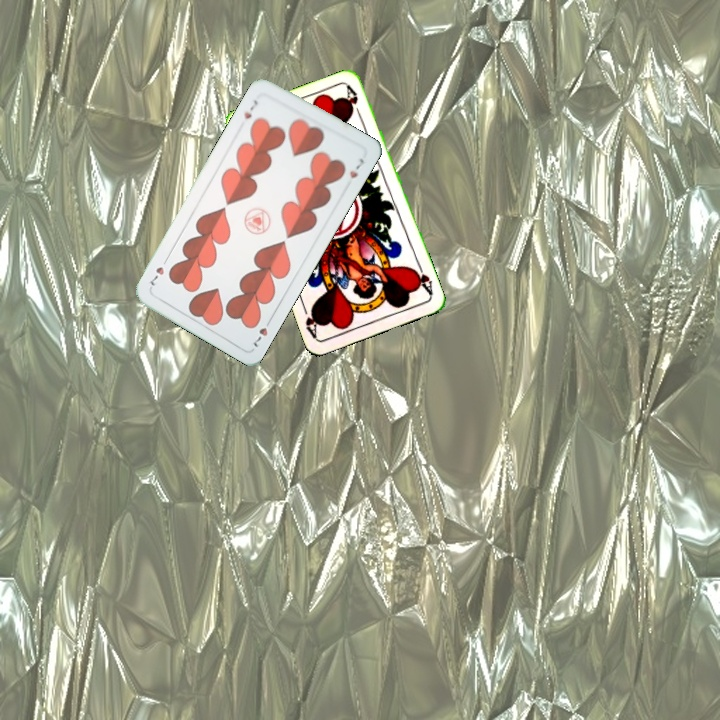H7: (249, 314, 274, 350), (240, 96, 260, 121)
HA: (408, 259, 436, 298)
